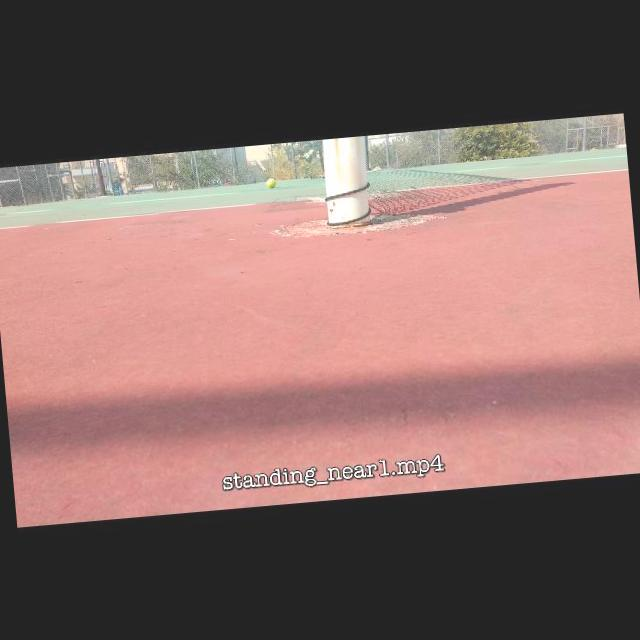Tennis Ball: (266, 177, 276, 188)
